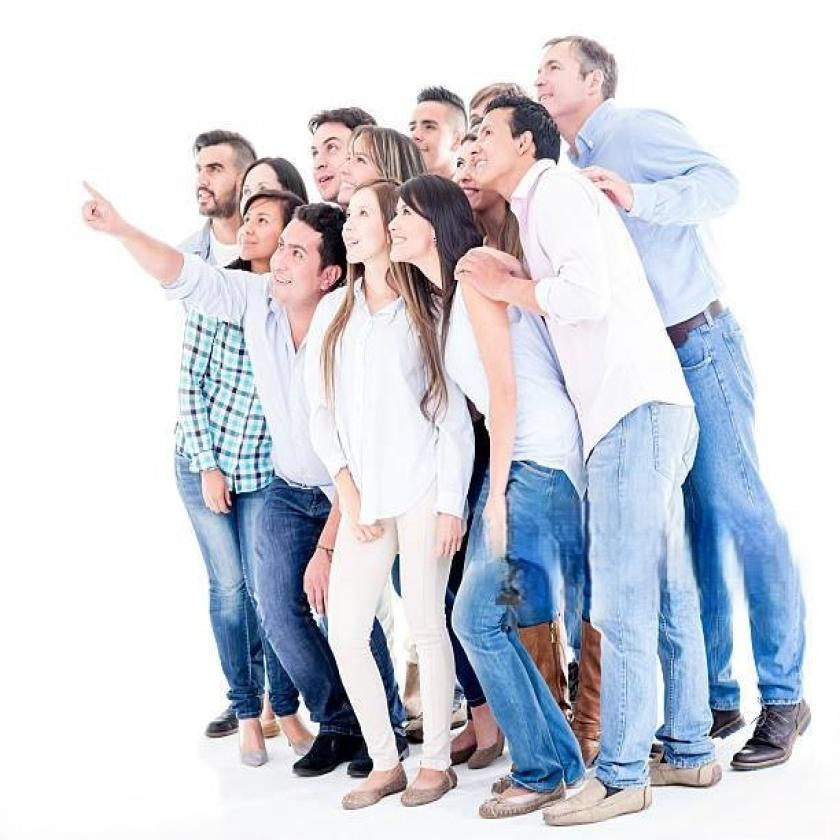Sin_casco: (466, 90, 566, 202), (525, 24, 625, 133), (387, 170, 477, 282), (270, 203, 344, 321), (332, 119, 418, 215), (295, 99, 379, 196), (188, 125, 252, 238), (340, 181, 406, 287), (404, 77, 470, 178), (233, 188, 303, 271)
